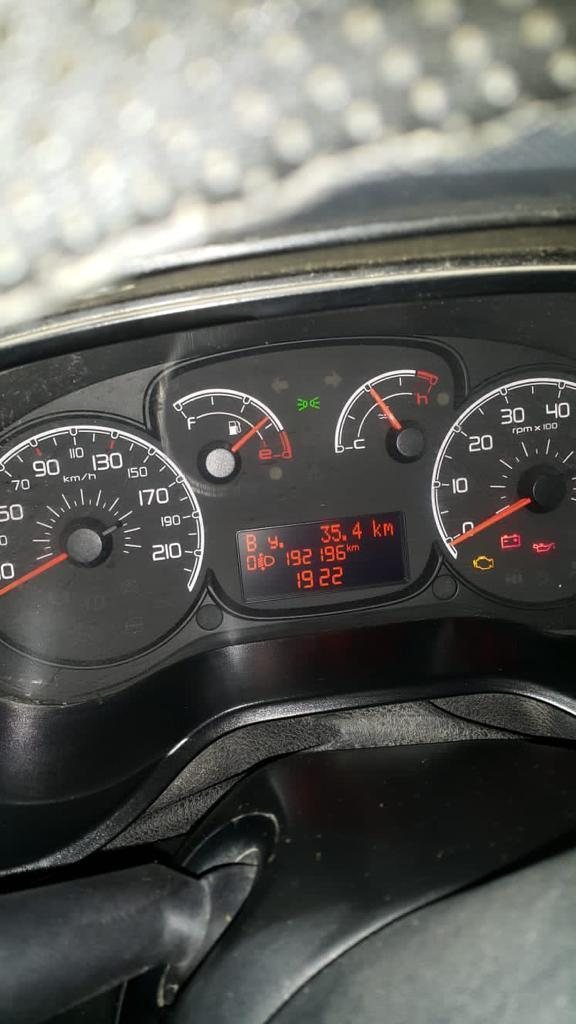,: (341, 532, 349, 542), (278, 541, 287, 549)
0: (246, 553, 256, 571)
1: (296, 569, 301, 591), (319, 545, 324, 563), (285, 550, 290, 566)
2: (318, 567, 330, 588), (332, 565, 343, 585), (301, 547, 312, 565)
3: (319, 523, 330, 543)
4: (351, 520, 362, 540)
5: (330, 523, 341, 541)
6: (336, 543, 346, 561)
9: (301, 569, 314, 589), (290, 548, 301, 566), (324, 545, 335, 562)
X: (371, 516, 382, 538), (245, 532, 257, 551), (382, 520, 394, 536), (267, 535, 278, 550), (351, 543, 360, 551), (346, 542, 351, 552)
odometer: (231, 507, 415, 605)
